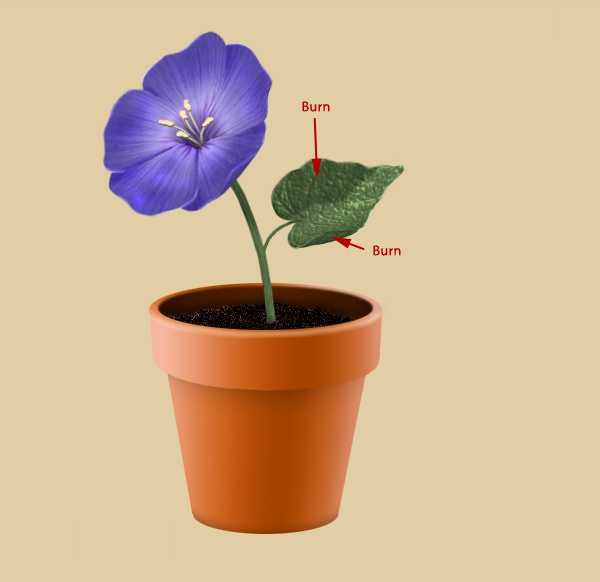flowerpot: (151, 283, 382, 537)
